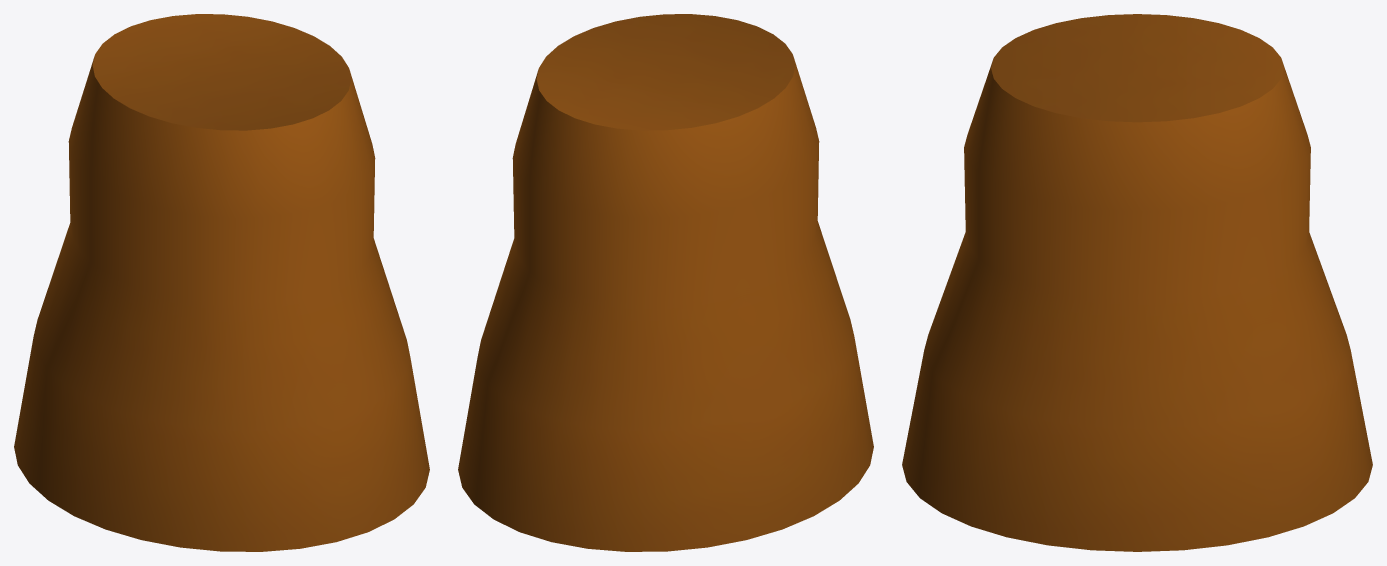
File: Mountain 3.glb
The picture shows the model from 3 angles, left to right: view 1: azimuth 30°, elevation 25°; view 2: azimuth 150°, elevation 25°; view 3: azimuth 270°, elevation 25°; orthographic projection. The views are drawn at different scales.
Parts seen in each view (by area): view 1: Cylinder.001; view 2: Cylinder.001; view 3: Cylinder.001.
Part boxes in pixels (bbox=[...]): Cylinder.001: bbox=[14, 14, 429, 551]; Cylinder.001: bbox=[458, 14, 873, 551]; Cylinder.001: bbox=[902, 14, 1372, 551].
Bounding box in the file's own units: 17.18 × 18.26 × 19.64.
Materials: 1 (1 with a texture image).
